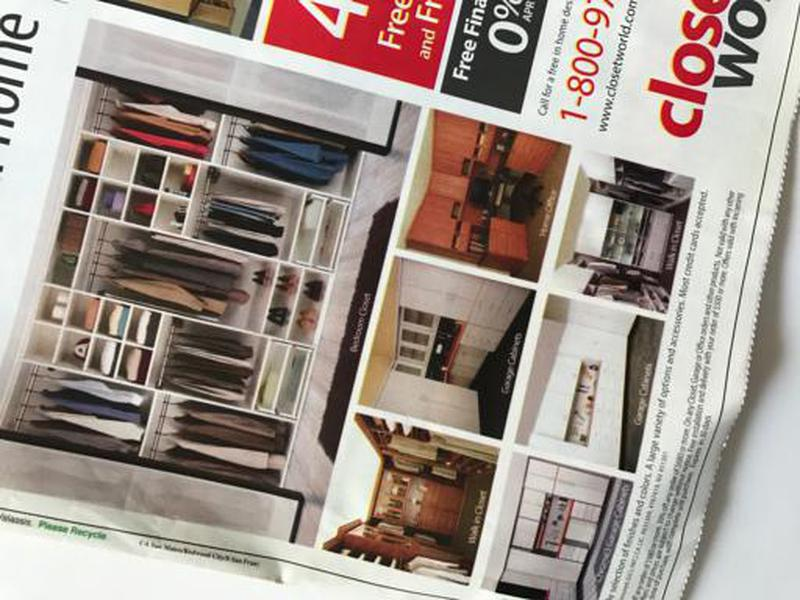paper: (1, 1, 798, 600)
